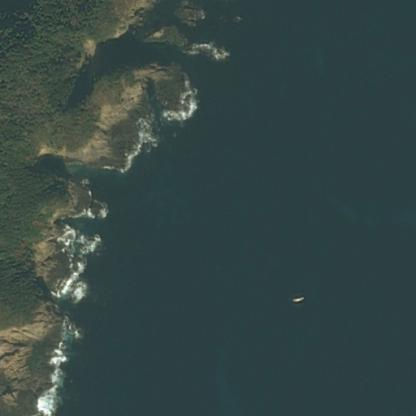ship: (285, 288, 309, 306)
